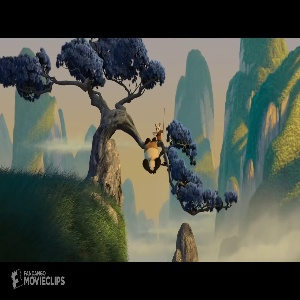po: (141, 137, 161, 174)
shifu: (152, 122, 165, 144)
